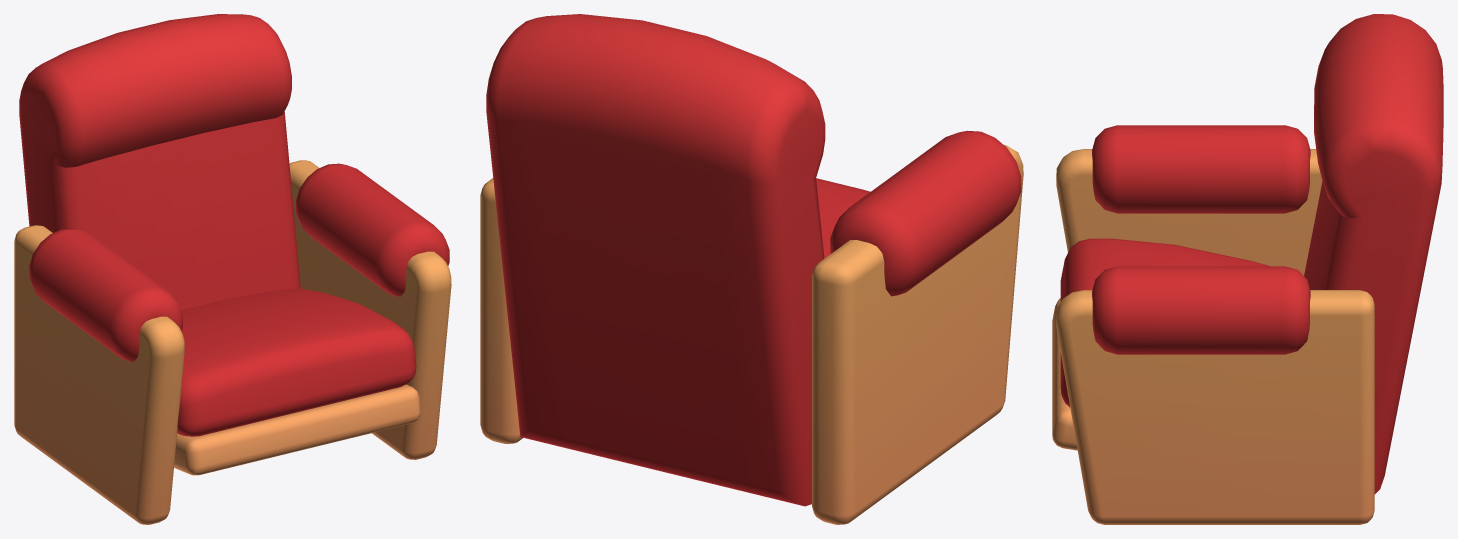
The model's file is Armchair_18.glb.
3 renders of one model, left to right at view 1: azimuth 30°, elevation 25°; view 2: azimuth 150°, elevation 25°; view 3: azimuth 270°, elevation 25°, orthographic. The views are drawn at different scales.
Visible parts, largest first — view 1: Armchair_18; view 2: Armchair_18; view 3: Armchair_18.
Boxes of the visible parts, bbox=[...] form: Armchair_18: bbox=[14, 14, 451, 524]; Armchair_18: bbox=[480, 14, 1023, 524]; Armchair_18: bbox=[1052, 14, 1443, 524].
Bounding box in the file's own units: 1.01 × 1.05 × 0.9378.
Materials: 1 (1 with a texture image).
